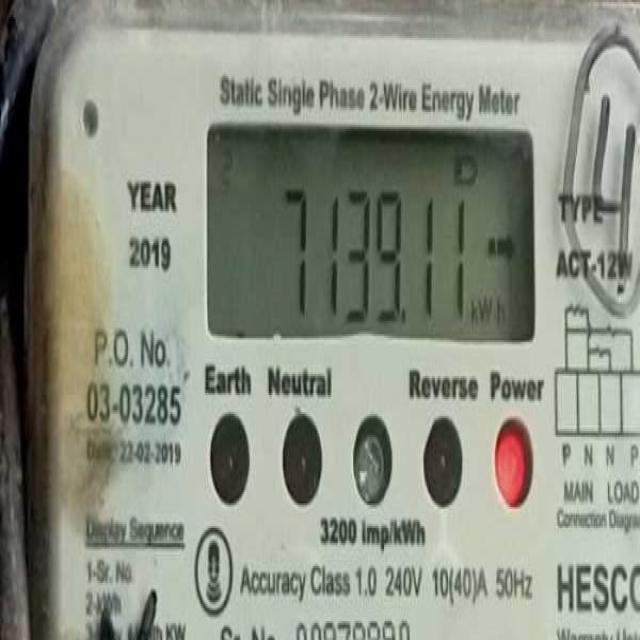1: (450, 193, 469, 320), (423, 199, 440, 326), (329, 190, 342, 322)
3: (346, 185, 372, 333)
7: (283, 184, 317, 314)
9: (375, 185, 404, 324)
Digital meter: (208, 126, 536, 341)
point: (399, 304, 410, 332)
